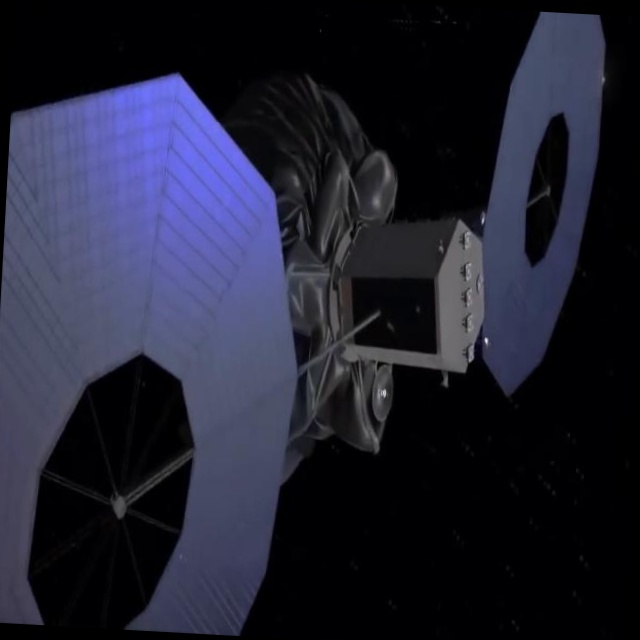satellite: (0, 0, 619, 640)
